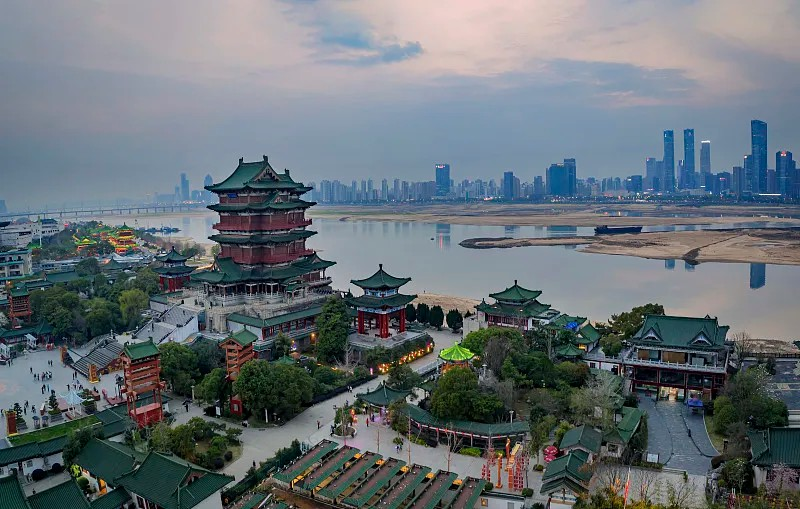Teng: (198, 155, 337, 286)
